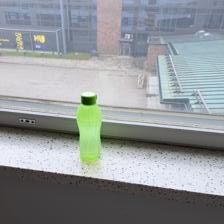bottle: (72, 90, 104, 163)
